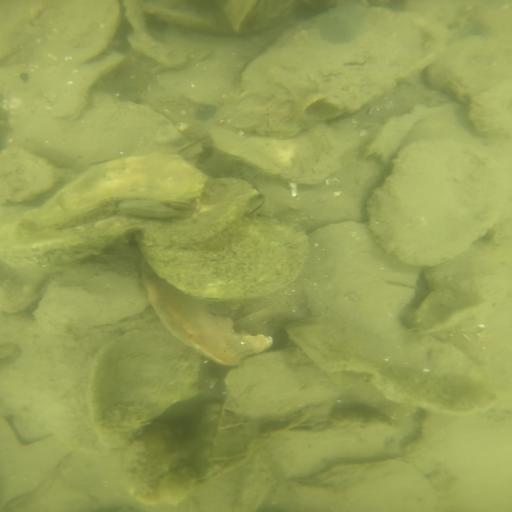Oyster-Closed: (242, 7, 452, 118), (288, 320, 497, 415), (369, 139, 505, 266), (142, 214, 311, 300), (230, 347, 415, 423), (19, 324, 121, 457), (143, 280, 273, 372), (41, 242, 151, 332), (145, 179, 267, 248), (294, 459, 443, 512), (469, 82, 506, 139), (119, 200, 184, 218)
